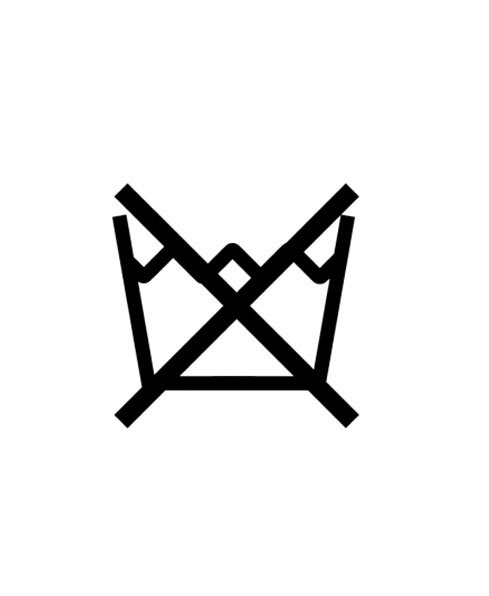do_not_wash: (65, 164, 389, 450)
